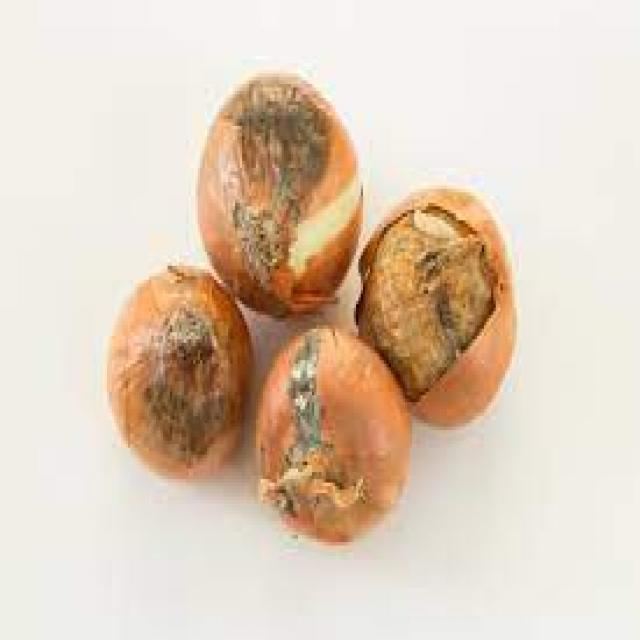Onion: (198, 69, 365, 322), (353, 187, 518, 430), (258, 329, 414, 543), (110, 265, 253, 481)
